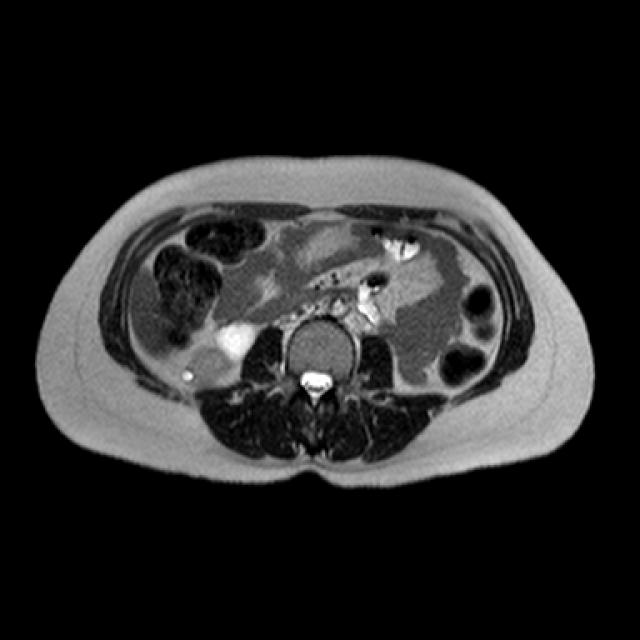sag: (183, 319, 254, 386)
